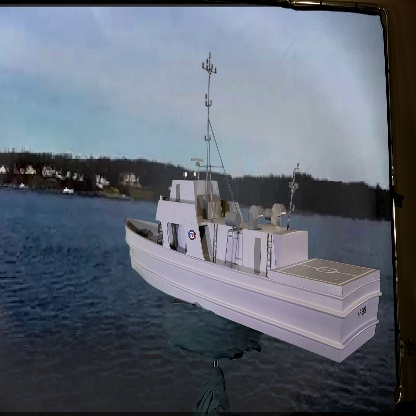YP689: (124, 50, 383, 365)
